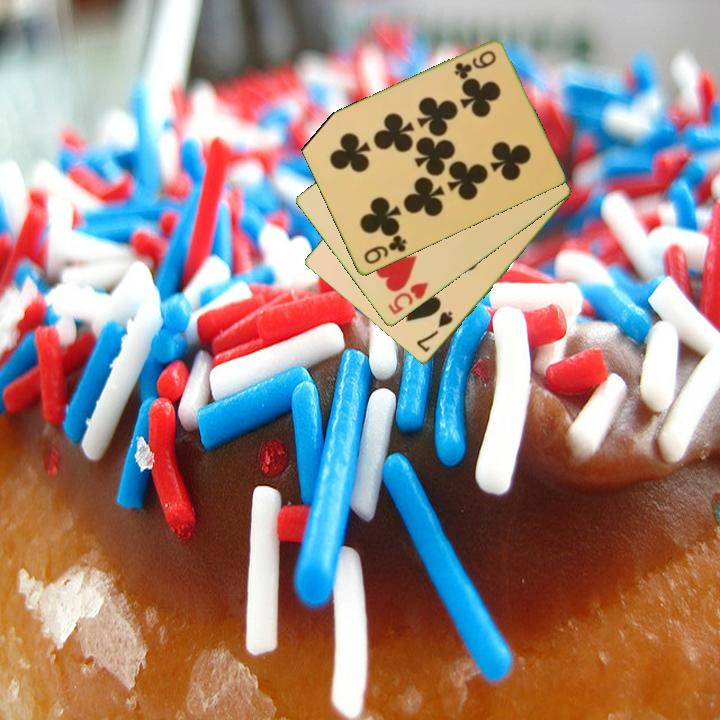5h: (384, 279, 431, 318)
7s: (413, 308, 456, 356)
9c: (360, 232, 409, 267), (451, 47, 499, 82)
